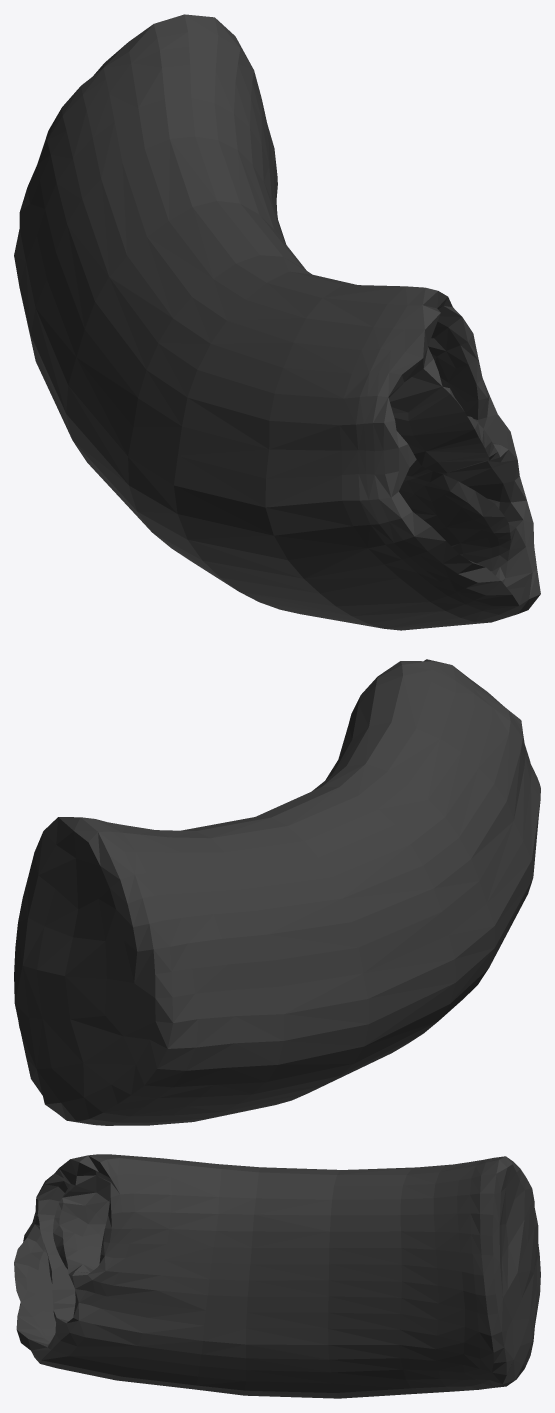
The picture shows the model from 3 angles, top to bottom: view 1: azimuth 30°, elevation 25°; view 2: azimuth 150°, elevation 25°; view 3: azimuth 270°, elevation 25°; orthographic projection. The views are drawn at different scales.
Parts seen in each view (by area): view 1: world; view 2: world; view 3: world.
Part boxes in pixels (x1,y1,x2,y2): world: (14,14,540,630); world: (14,659,540,1125); world: (14,1154,540,1398).
Bounding box in the file's own units: 0.1469 × 0.1745 × 0.3199.
Materials: 1 (1 with a texture image).
